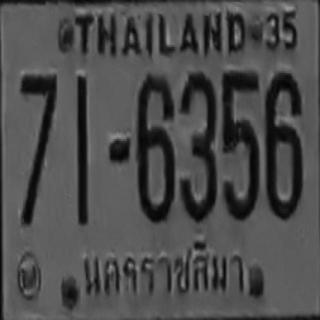N01: (76, 75, 87, 204)
N03: (178, 70, 215, 220)
N05: (221, 70, 259, 218)
N06: (264, 70, 302, 218), (135, 73, 173, 221)
N07: (19, 73, 56, 216), (19, 73, 56, 186), (19, 73, 56, 162)
P30: (77, 236, 254, 302)
